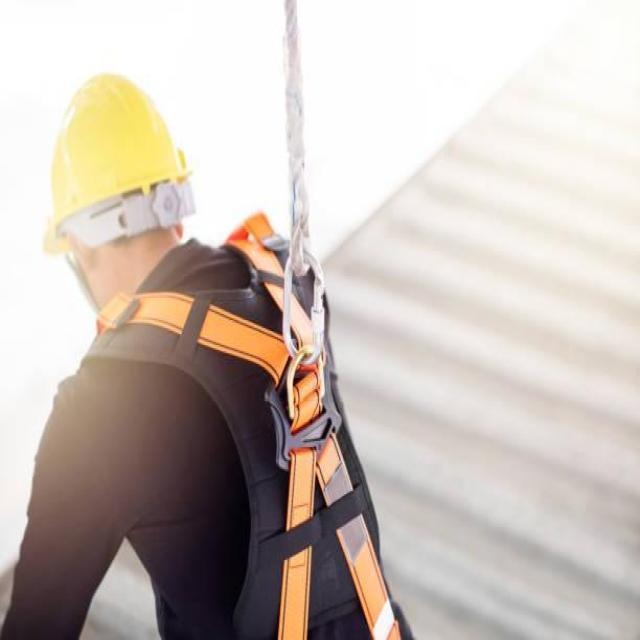Arnes_seguridad: (78, 207, 404, 640)
